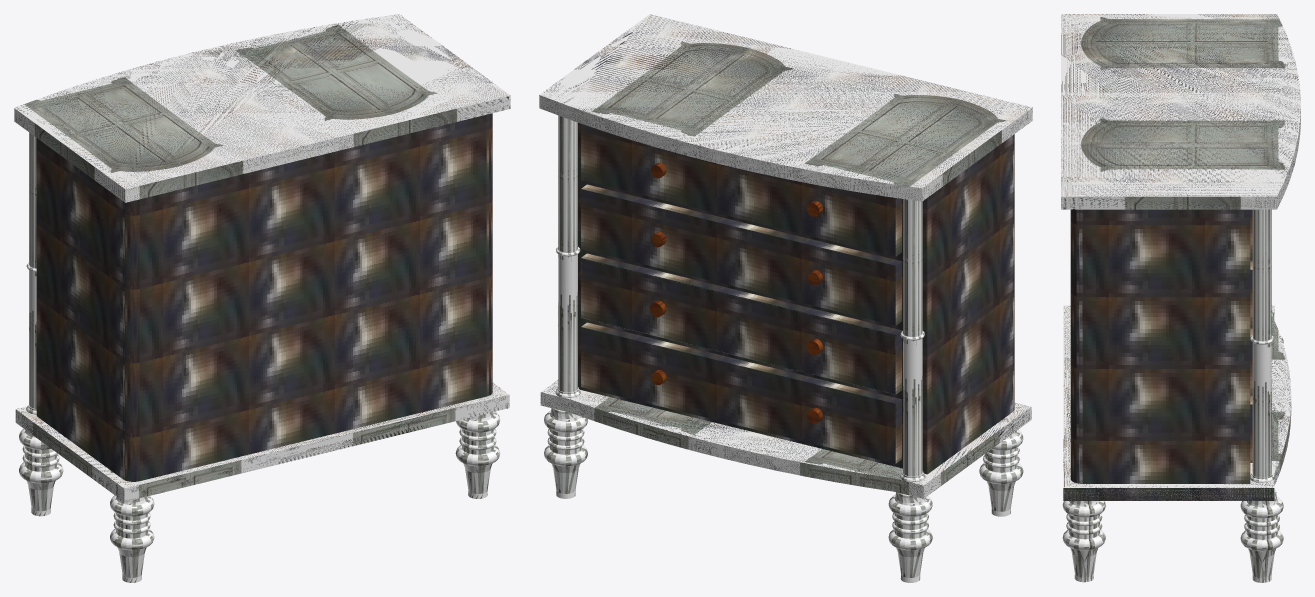
3 renders of one model, left to right at view 1: azimuth 30°, elevation 25°; view 2: azimuth 150°, elevation 25°; view 3: azimuth 270°, elevation 25°, orthographic. The views are drawn at different scales.
Visible parts, largest first — view 1: mesh144_mesh144-geometry, mesh118_mesh118-geometry, mesh131_mesh131-geometry, mesh87_mesh87-geometry, mesh56_mesh56-geometry, mesh25_mesh25-geometry; view 2: mesh144_mesh144-geometry, mesh147_mesh147-geometry, mesh145_mesh145-geometry, mesh146_mesh146-geometry, mesh148_mesh148-geometry, mesh118_mesh118-geometry, mesh131_mesh131-geometry, mesh87_mesh87-geometry, mesh90_mesh90-geometry, mesh108_mesh108-geometry, mesh56_mesh56-geometry; view 3: mesh144_mesh144-geometry, mesh118_mesh118-geometry, mesh131_mesh131-geometry, mesh25_mesh25-geometry, mesh87_mesh87-geometry, mesh108_mesh108-geometry, mesh90_mesh90-geometry, mesh28_mesh28-geometry, mesh46_mesh46-geometry.
Boxes of the visible parts, bbox=[...] form: mesh144_mesh144-geometry: bbox=[14, 14, 510, 501]; mesh118_mesh118-geometry: bbox=[29, 270, 36, 408]; mesh131_mesh131-geometry: bbox=[29, 132, 36, 268]; mesh87_mesh87-geometry: bbox=[27, 481, 55, 516]; mesh56_mesh56-geometry: bbox=[118, 547, 146, 582]; mesh25_mesh25-geometry: bbox=[463, 463, 492, 498]; mesh144_mesh144-geometry: bbox=[539, 14, 1032, 498]; mesh147_mesh147-geometry: bbox=[581, 184, 901, 325]; mesh145_mesh145-geometry: bbox=[581, 322, 901, 463]; mesh146_mesh146-geometry: bbox=[581, 253, 901, 394]; mesh148_mesh148-geometry: bbox=[581, 123, 901, 256]; mesh118_mesh118-geometry: bbox=[558, 254, 922, 476]; mesh131_mesh131-geometry: bbox=[558, 115, 922, 336]; mesh87_mesh87-geometry: bbox=[552, 464, 924, 582]; mesh90_mesh90-geometry: bbox=[544, 445, 932, 550]; mesh108_mesh108-geometry: bbox=[544, 410, 932, 516]; mesh56_mesh56-geometry: bbox=[987, 481, 1015, 516]; mesh144_mesh144-geometry: bbox=[1061, 14, 1300, 500]; mesh118_mesh118-geometry: bbox=[1252, 342, 1271, 477]; mesh131_mesh131-geometry: bbox=[1252, 209, 1271, 341]; mesh25_mesh25-geometry: bbox=[1070, 548, 1097, 582]; mesh87_mesh87-geometry: bbox=[1248, 548, 1275, 582]; mesh108_mesh108-geometry: bbox=[1240, 335, 1283, 518]; mesh90_mesh90-geometry: bbox=[1240, 530, 1283, 551]; mesh28_mesh28-geometry: bbox=[1062, 529, 1105, 550]; mesh46_mesh46-geometry: bbox=[1062, 501, 1105, 517].
Size of the model in its own units: 0.6583 by 0.6581 by 0.3656.
